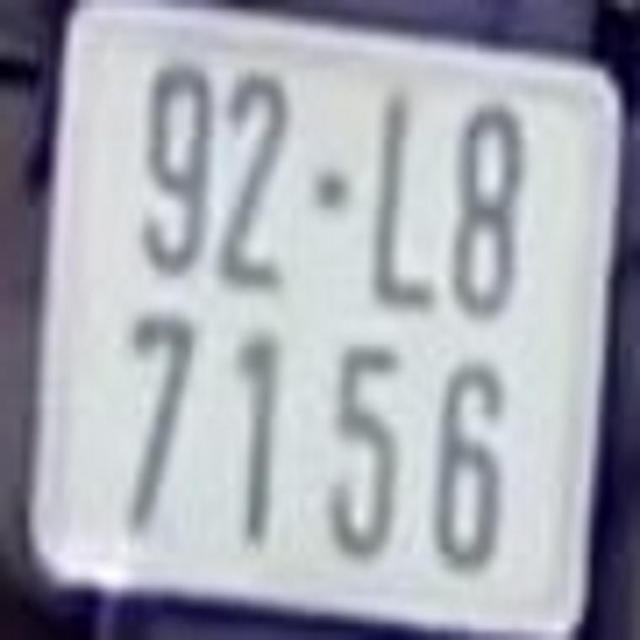1: (232, 331, 282, 551)
2: (222, 69, 286, 294)
5: (330, 337, 402, 561)
6: (432, 360, 509, 575)
7: (126, 316, 196, 532)
8: (461, 98, 518, 309)
9: (140, 56, 207, 270)
L: (371, 92, 442, 308)
